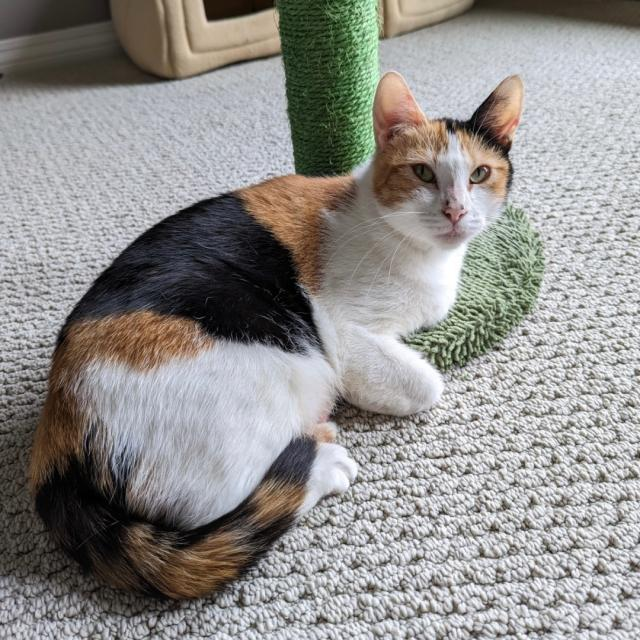calico_cat: (356, 62, 530, 266)
